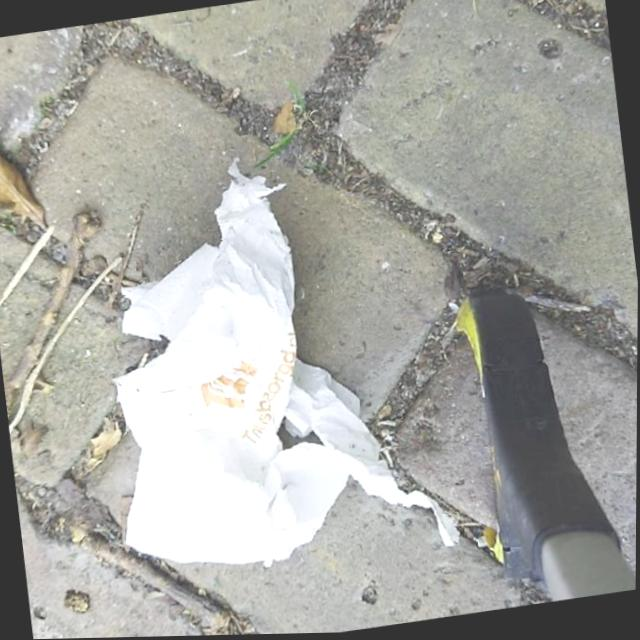Paper: (77, 130, 465, 596)
